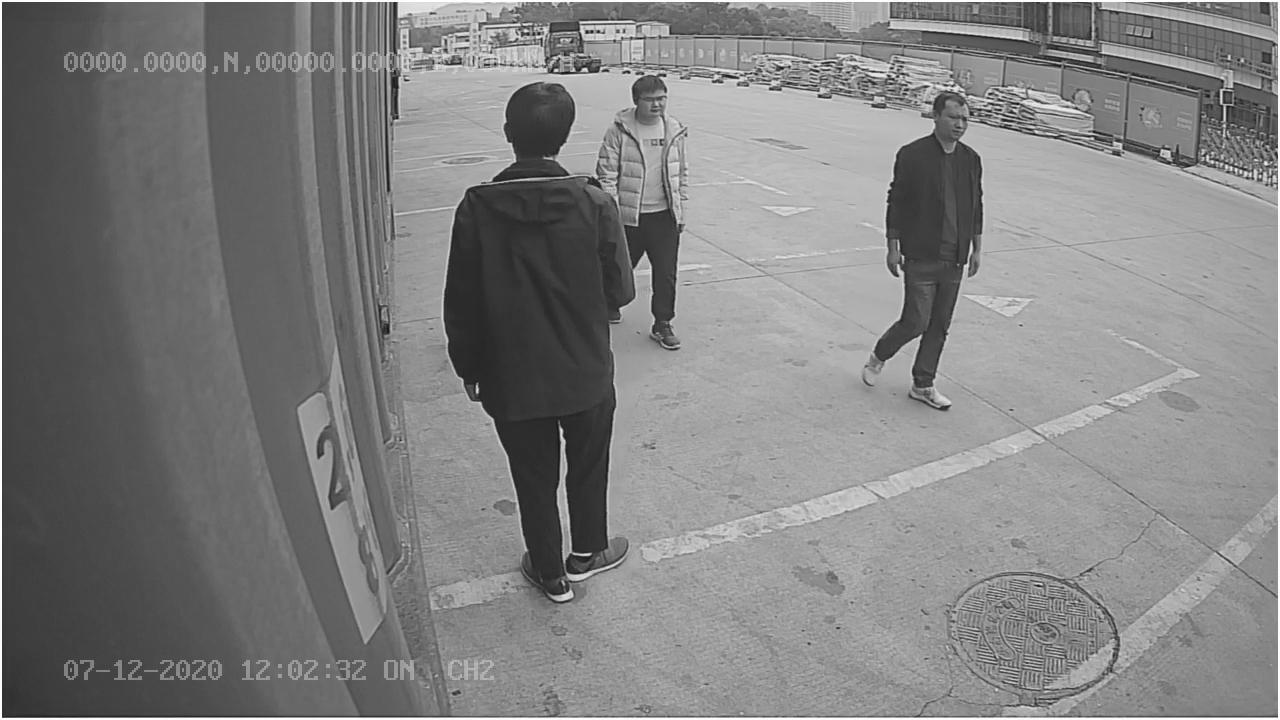person: (436, 75, 649, 609), (861, 88, 987, 414)
